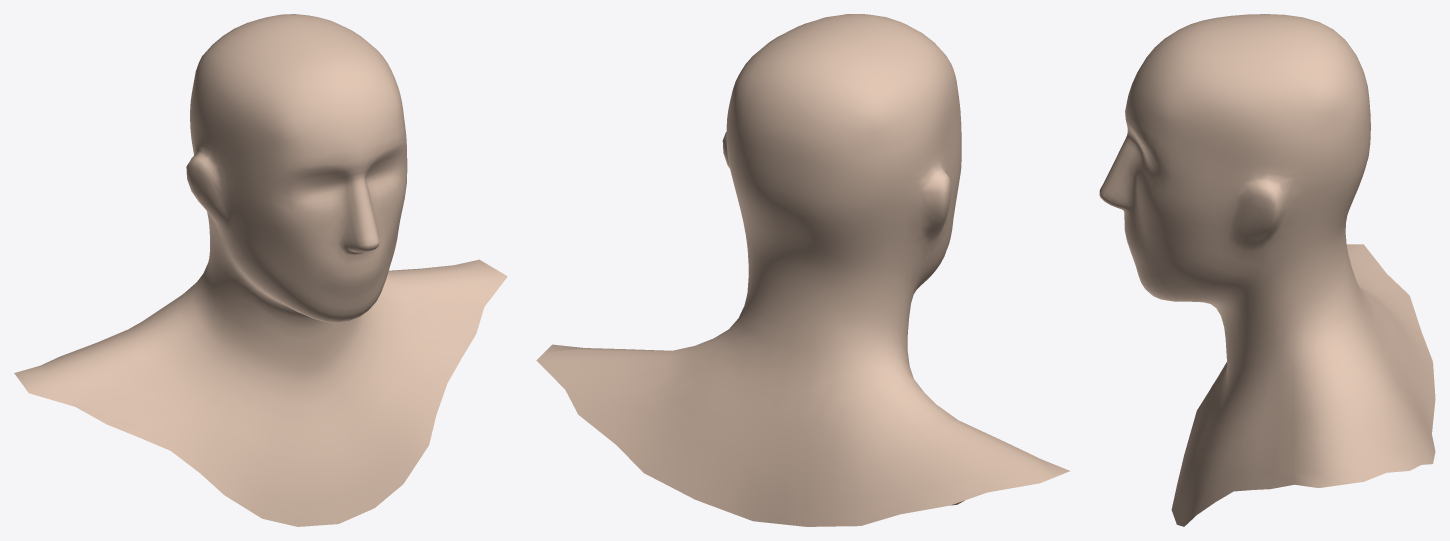
Rendered from human_silluate.fbx.
3 renders of one model, left to right at view 1: azimuth 30°, elevation 25°; view 2: azimuth 150°, elevation 25°; view 3: azimuth 270°, elevation 25°, orthographic. The views are drawn at different scales.
Parts seen in each view (by area): view 1: BasicHead:basicHead; view 2: BasicHead:basicHead; view 3: BasicHead:basicHead.
Boxes of the visible parts, box(x1,y1,x2,y2) form: BasicHead:basicHead: box(14, 14, 507, 526); BasicHead:basicHead: box(536, 14, 1069, 526); BasicHead:basicHead: box(1099, 14, 1435, 526).
Size of the model in its own units: 7.89 by 7.28 by 4.59.
